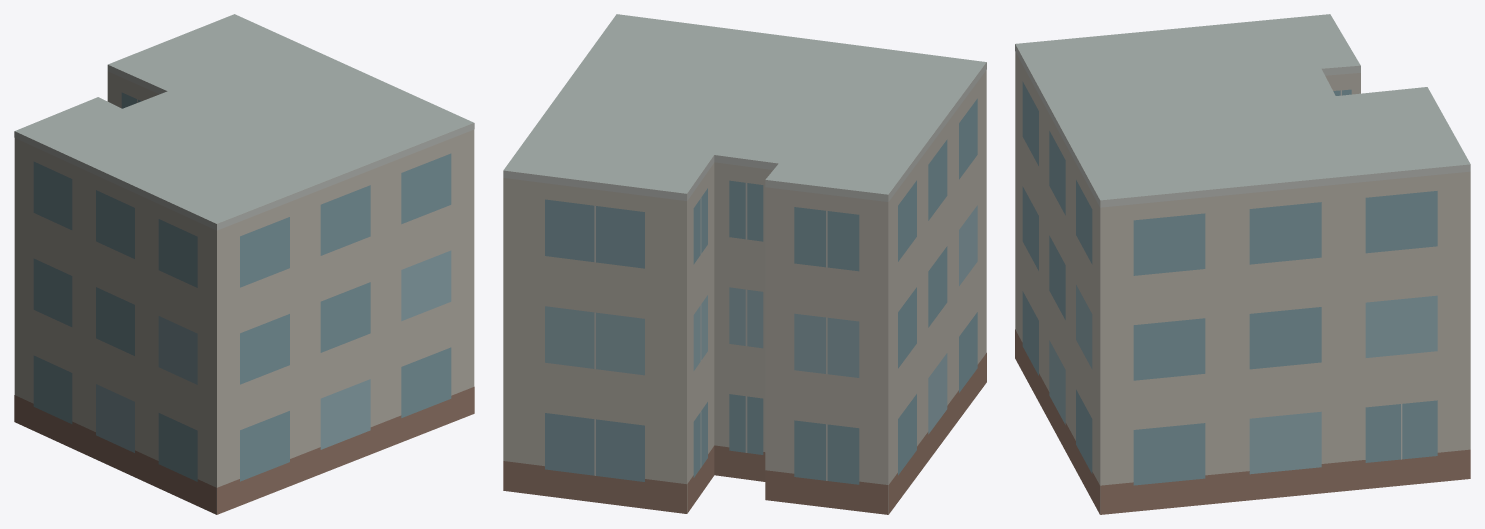
Rendered from survey-upis-32775351.glb.
The picture shows the model from 3 angles, left to right: view 1: azimuth 30°, elevation 25°; view 2: azimuth 150°, elevation 25°; view 3: azimuth 270°, elevation 25°; orthographic projection. The views are drawn at different scales.
Parts seen in each view (by area): view 1: survey-upis-32775351.tmp; view 2: survey-upis-32775351.tmp; view 3: survey-upis-32775351.tmp.
Part boxes in pixels (x1,y1,x2,y2): survey-upis-32775351.tmp: [14, 14, 474, 514]; survey-upis-32775351.tmp: [503, 14, 986, 514]; survey-upis-32775351.tmp: [1015, 14, 1470, 514].
Bounding box in the file's own units: 13.49 × 10.6 × 13.93.
